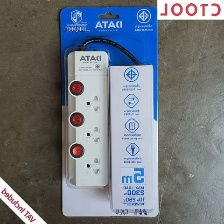book: (60, 5, 160, 221)
three_eye_plug: (62, 47, 111, 189)
